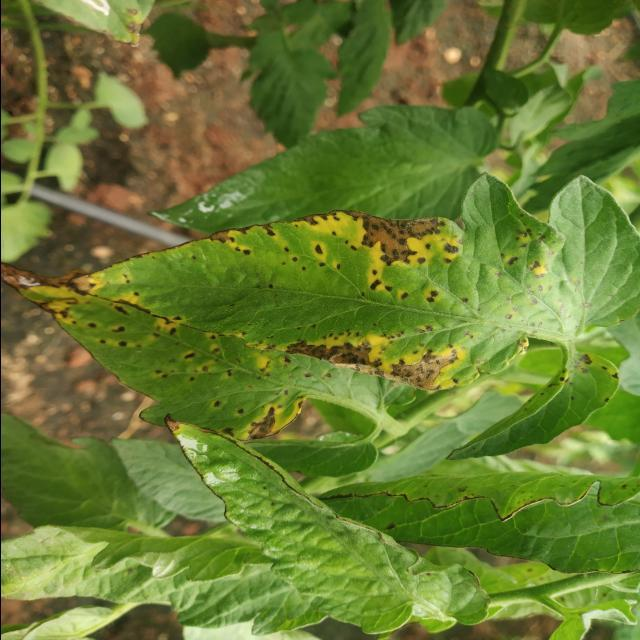Tomato mosaic virus leaf: (54, 193, 562, 394), (15, 285, 349, 445), (446, 348, 626, 459)
